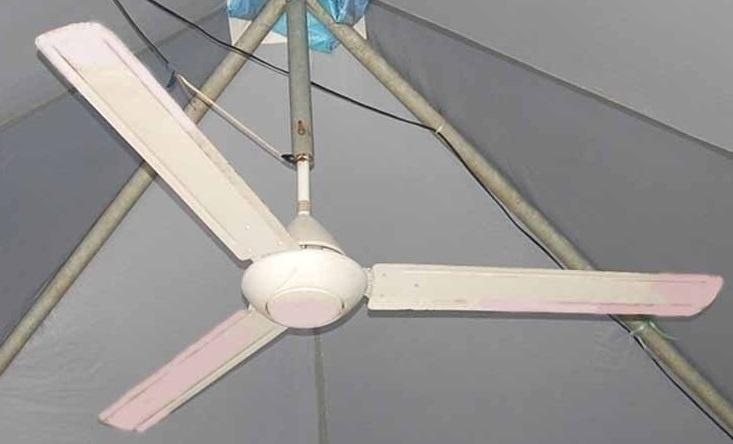fan: (30, 7, 723, 444)
